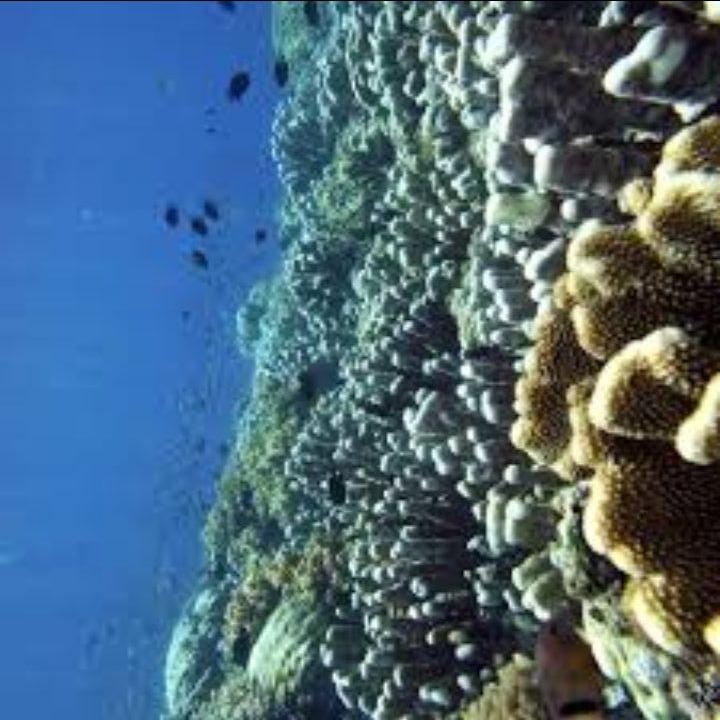Healthy Coral: (247, 43, 562, 696)
